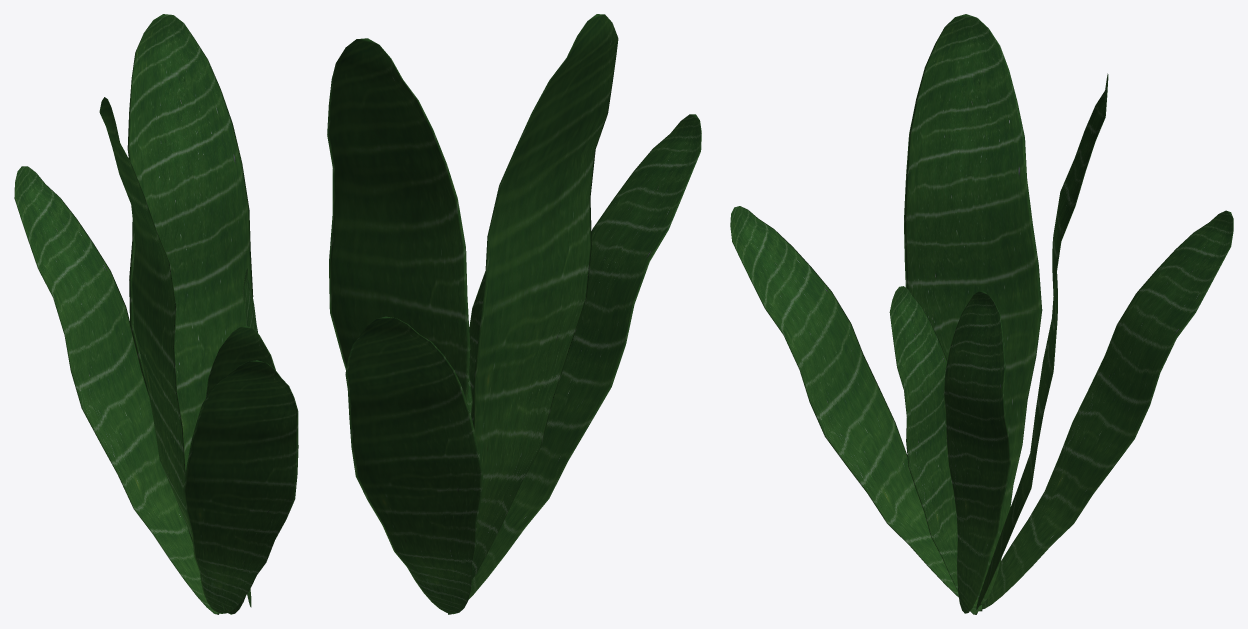
The model's file is Plant 4.fbx.
3 renders of one model, left to right at view 1: azimuth 30°, elevation 25°; view 2: azimuth 150°, elevation 25°; view 3: azimuth 270°, elevation 25°, orthographic. The views are drawn at different scales.
Parts seen in each view (by area): view 1: pSphere2; view 2: pSphere2; view 3: pSphere2.
Boxes of the visible parts, x1,y1,x2,y2 form: pSphere2: [14, 14, 298, 614]; pSphere2: [327, 14, 701, 614]; pSphere2: [730, 14, 1233, 614].
Size of the model in its own units: 7.69 by 21.01 by 17.75.
Materials: 1 (1 with a texture image).
